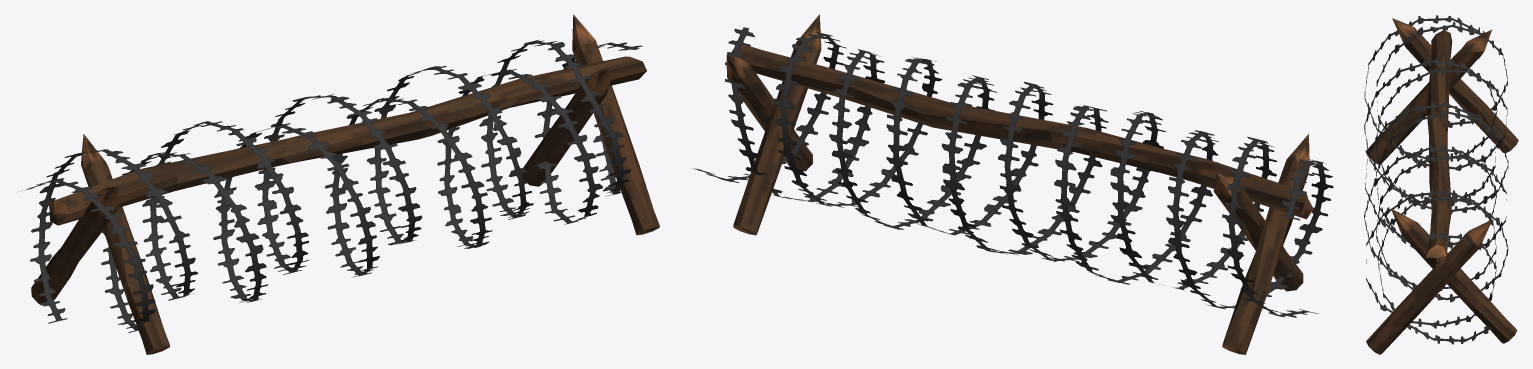
File: Barricade_Barbed_Wire.fbx
The picture shows the model from 3 angles, left to right: view 1: azimuth 30°, elevation 25°; view 2: azimuth 150°, elevation 25°; view 3: azimuth 270°, elevation 25°; orthographic projection. The views are drawn at different scales.
Visible parts, largest first — view 1: Barbed Wire; view 2: Barbed Wire; view 3: Barbed Wire.
Boxes of the visible parts, x1,y1,x2,y2 form: Barbed Wire: (18, 14, 659, 354); Barbed Wire: (693, 14, 1333, 354); Barbed Wire: (1364, 15, 1518, 354).
Size of the model in its own units: 421 by 115 by 117.
